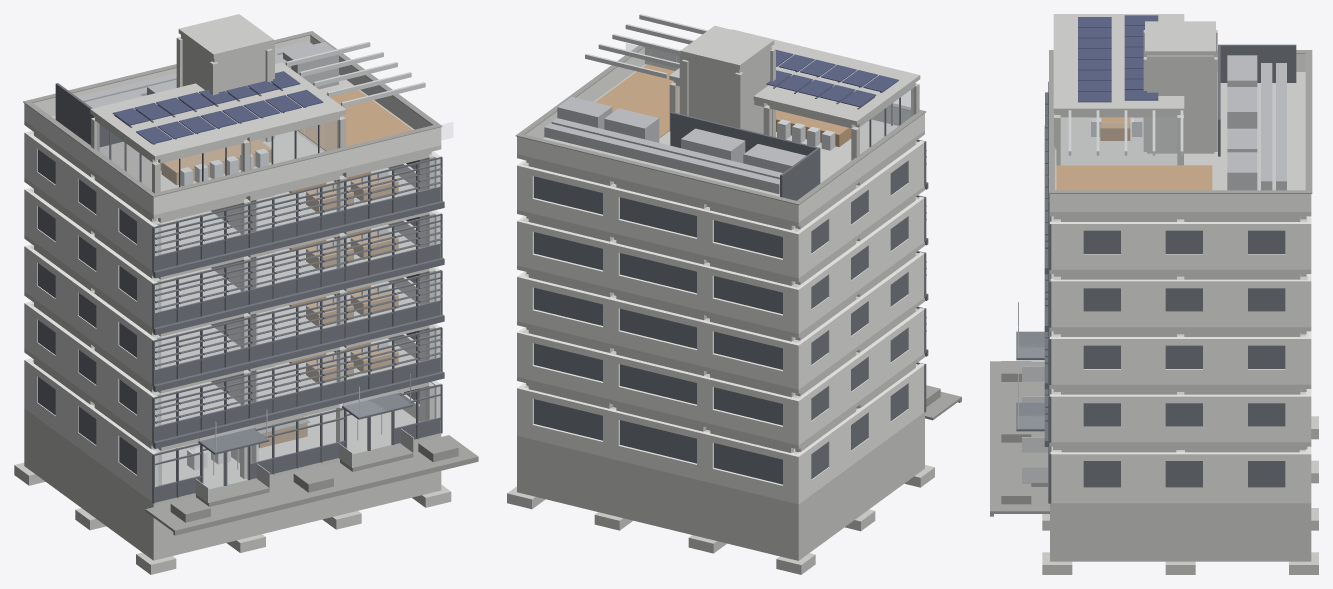
The model's file is newton.glb.
3 renders of one model, left to right at view 1: azimuth 30°, elevation 25°; view 2: azimuth 150°, elevation 25°; view 3: azimuth 270°, elevation 25°, orthographic. The views are drawn at different scales.
Visible parts, largest first — view 1: IFC IfcSlab 7173, IFC IfcWall 436, IFC IfcSlab 5297, IFC IfcWall 18209, IFC IfcWall 398, IFC IfcCovering 44681, IFC IfcSlab 6737, IFC IfcSlab 6017, IFC IfcSlab 6377, IFC IfcSlab 5657, IFC IfcSlab 7097, IFC IfcCovering 43161 (+62 smaller); view 2: IFC IfcWall 417, IFC IfcWall 436, IFC IfcWall 18228, IFC IfcSlab 7173, IFC IfcFlowSegment 44149, IFC IfcWall 7230, IFC IfcCovering 43161, IFC IfcSlab 7268, IFC IfcSlab 75, IFC IfcSlab 7116, IFC IfcWall 18247, IFC IfcWall 44187 (+106 smaller); view 3: IFC IfcWall 455, IFC IfcWall 7211, IFC IfcSlab 7173, IFC IfcSlab 7116, IFC IfcWall 18266, IFC IfcCovering 43161, IFC IfcCovering 44681, IFC IfcSlab 7097, IFC IfcSlab 7268, IFC IfcWall 12491, IFC IfcWall 12529, IFC IfcWall 13658 (+94 smaller).
Boxes of the visible parts, bbox=[...] form: IFC IfcSlab 7173: bbox=[90, 62, 346, 160]; IFC IfcWall 436: bbox=[27, 415, 150, 553]; IFC IfcSlab 5297: bbox=[105, 409, 441, 506]; IFC IfcWall 18209: bbox=[151, 127, 441, 215]; IFC IfcWall 398: bbox=[150, 471, 441, 555]; IFC IfcCovering 44681: bbox=[145, 435, 476, 531]; IFC IfcSlab 6737: bbox=[105, 168, 419, 275]; IFC IfcSlab 6017: bbox=[105, 282, 419, 389]; IFC IfcSlab 6377: bbox=[105, 225, 419, 332]; IFC IfcSlab 5657: bbox=[105, 338, 419, 446]; IFC IfcSlab 7097: bbox=[105, 111, 441, 219]; IFC IfcCovering 43161: bbox=[297, 90, 412, 150]; IFC IfcWall 417: bbox=[517, 440, 801, 555]; IFC IfcWall 436: bbox=[801, 418, 922, 553]; IFC IfcWall 18228: bbox=[517, 136, 800, 222]; IFC IfcSlab 7173: bbox=[669, 29, 920, 125]; IFC IfcFlowSegment 44149: bbox=[544, 123, 779, 194]; IFC IfcWall 7230: bbox=[679, 55, 740, 126]; IFC IfcCovering 43161: bbox=[595, 64, 679, 137]; IFC IfcSlab 7268: bbox=[680, 25, 774, 69]; IFC IfcSlab 75: bbox=[517, 464, 924, 560]; IFC IfcSlab 7116: bbox=[517, 137, 845, 226]; IFC IfcWall 18247: bbox=[801, 115, 922, 220]; IFC IfcWall 44187: bbox=[670, 112, 820, 184]; IFC IfcWall 455: bbox=[1055, 507, 1305, 556]; IFC IfcWall 7211: bbox=[1147, 55, 1214, 153]; IFC IfcSlab 7173: bbox=[1053, 14, 1184, 112]; IFC IfcSlab 7116: bbox=[1214, 72, 1311, 216]; IFC IfcWall 18266: bbox=[1054, 194, 1306, 211]; IFC IfcCovering 43161: bbox=[1056, 165, 1212, 190]; IFC IfcCovering 44681: bbox=[994, 361, 1049, 513]; IFC IfcSlab 7097: bbox=[1050, 117, 1146, 216]; IFC IfcSlab 7268: bbox=[1145, 21, 1215, 55]; IFC IfcWall 12491: bbox=[1121, 452, 1165, 503]; IFC IfcWall 12529: bbox=[1203, 452, 1247, 503]; IFC IfcWall 13658: bbox=[1121, 394, 1165, 442].
Size of the model in its own units: 19.44 by 27.25 by 17.6.
